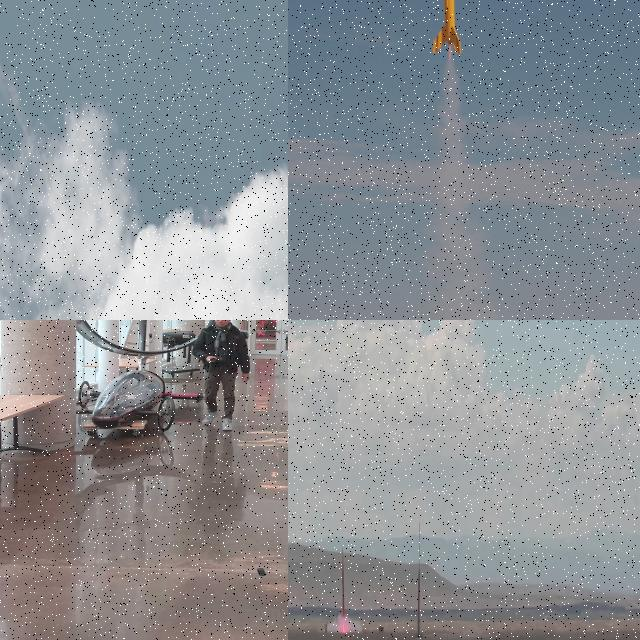Rocket: (432, 0, 461, 55), (342, 548, 346, 624), (418, 568, 420, 630), (81, 291, 84, 299)
